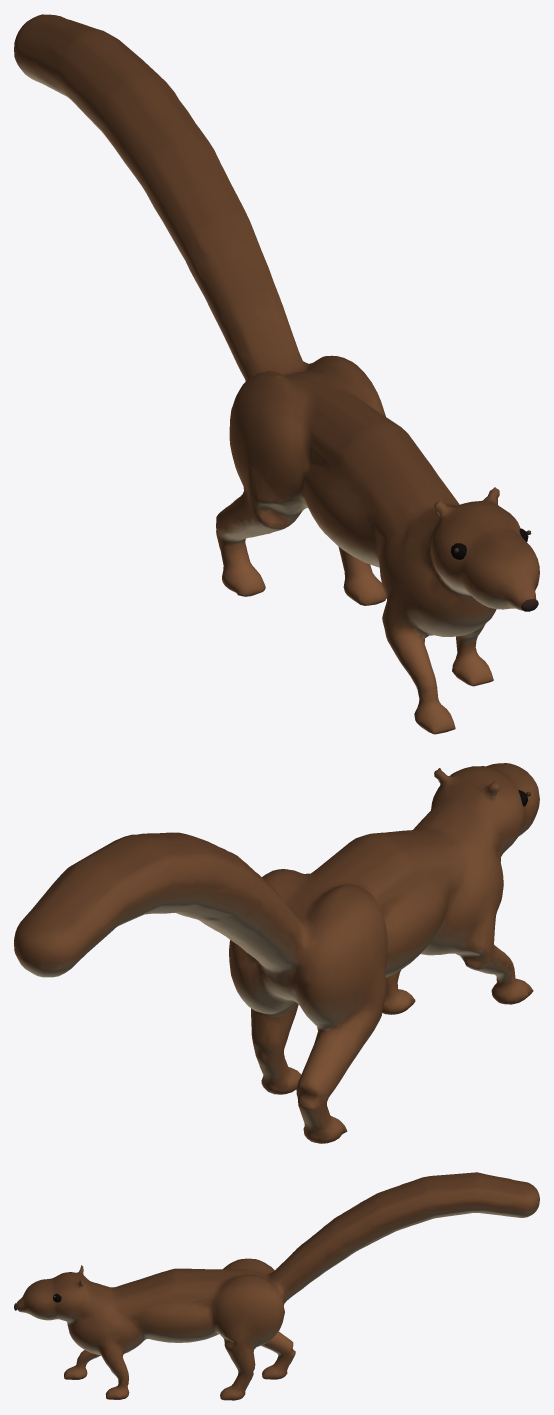
Rendered from Purgatorius.fbx.
The picture shows the model from 3 angles, top to bottom: view 1: azimuth 30°, elevation 25°; view 2: azimuth 150°, elevation 25°; view 3: azimuth 270°, elevation 25°; orthographic projection. The views are drawn at different scales.
Parts seen in each view (by area): view 1: Purgatorius; view 2: Purgatorius; view 3: Purgatorius.
Boxes of the visible parts, x1,y1,x2,y2 form: Purgatorius: [14, 14, 539, 734]; Purgatorius: [14, 763, 539, 1143]; Purgatorius: [14, 1172, 539, 1400].
Bounding box in the file's own units: 0.2282 × 0.676 × 1.51.
